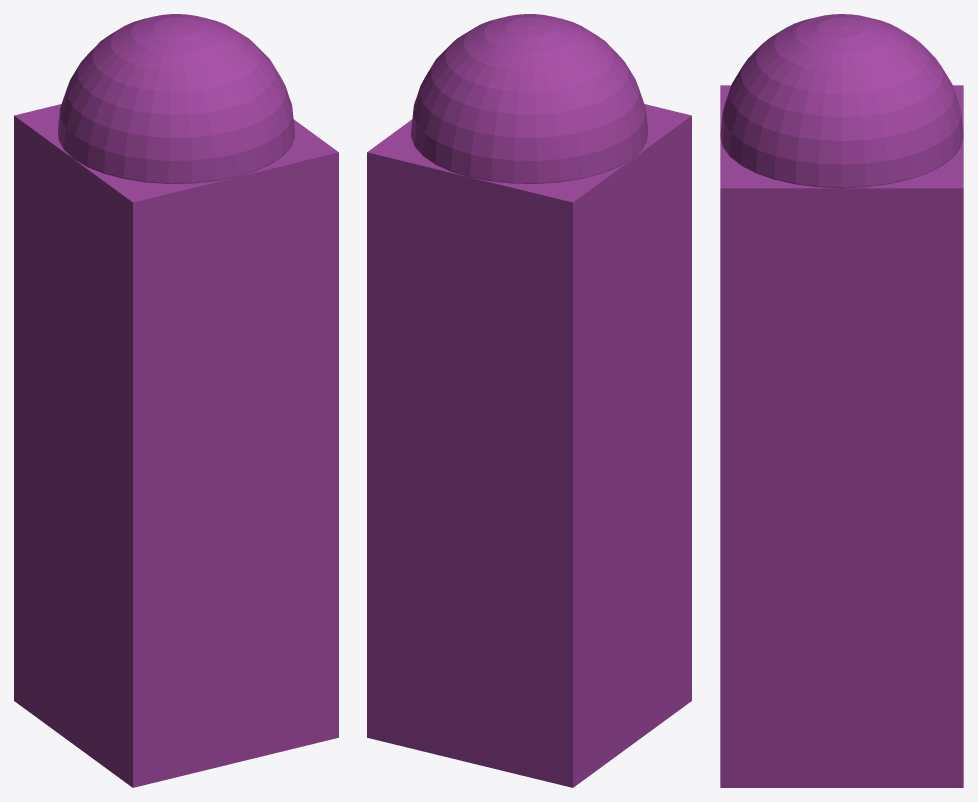
Rendered from player_right_foot_up.obj.
The picture shows the model from 3 angles, left to right: view 1: azimuth 30°, elevation 25°; view 2: azimuth 150°, elevation 25°; view 3: azimuth 270°, elevation 25°; orthographic projection. The views are drawn at different scales.
Parts seen in each view (by area): view 1: 立方體.007, 球體.001; view 2: 立方體.007, 球體.001; view 3: 立方體.007, 球體.001.
Boxes of the visible parts, <box> form: 立方體.007: <box>14,104,338,787</box>; 球體.001: <box>58,14,294,183</box>; 立方體.007: <box>367,104,691,787</box>; 球體.001: <box>411,14,647,183</box>; 立方體.007: <box>720,85,963,787</box>; 球體.001: <box>720,14,963,188</box>.
Bounding box in the file's own units: 0.5804 × 1.87 × 0.5804.
2 materials, 2 textured.
